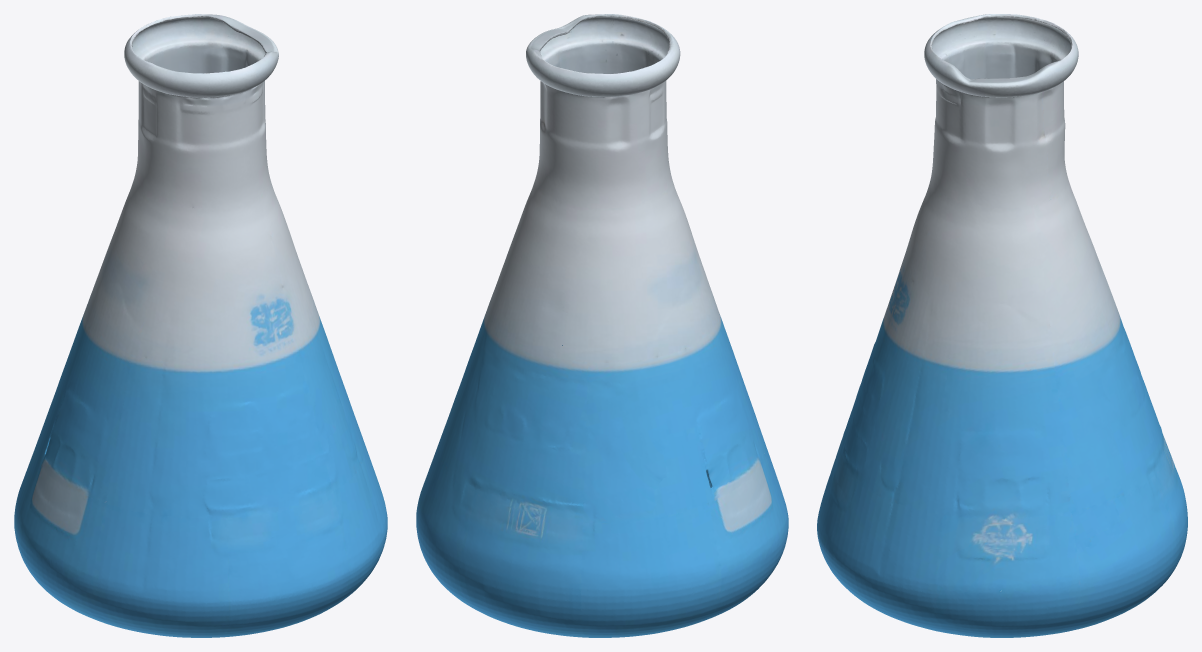
File: beaker.glb
3 renders of one model, left to right at view 1: azimuth 30°, elevation 25°; view 2: azimuth 150°, elevation 25°; view 3: azimuth 270°, elevation 25°, orthographic.
Visible parts, largest first — view 1: tripo_node_377c8978-a28a-4534-8f01-d845ca4c34b6; view 2: tripo_node_377c8978-a28a-4534-8f01-d845ca4c34b6; view 3: tripo_node_377c8978-a28a-4534-8f01-d845ca4c34b6.
Boxes of the visible parts, box(x1,y1,x2,y2) form: tripo_node_377c8978-a28a-4534-8f01-d845ca4c34b6: box(14, 14, 387, 637); tripo_node_377c8978-a28a-4534-8f01-d845ca4c34b6: box(416, 14, 788, 637); tripo_node_377c8978-a28a-4534-8f01-d845ca4c34b6: box(817, 14, 1187, 637).
Bounding box in the file's own units: 1.01 × 1.63 × 1.01.
Materials: 1 (1 with a texture image).
